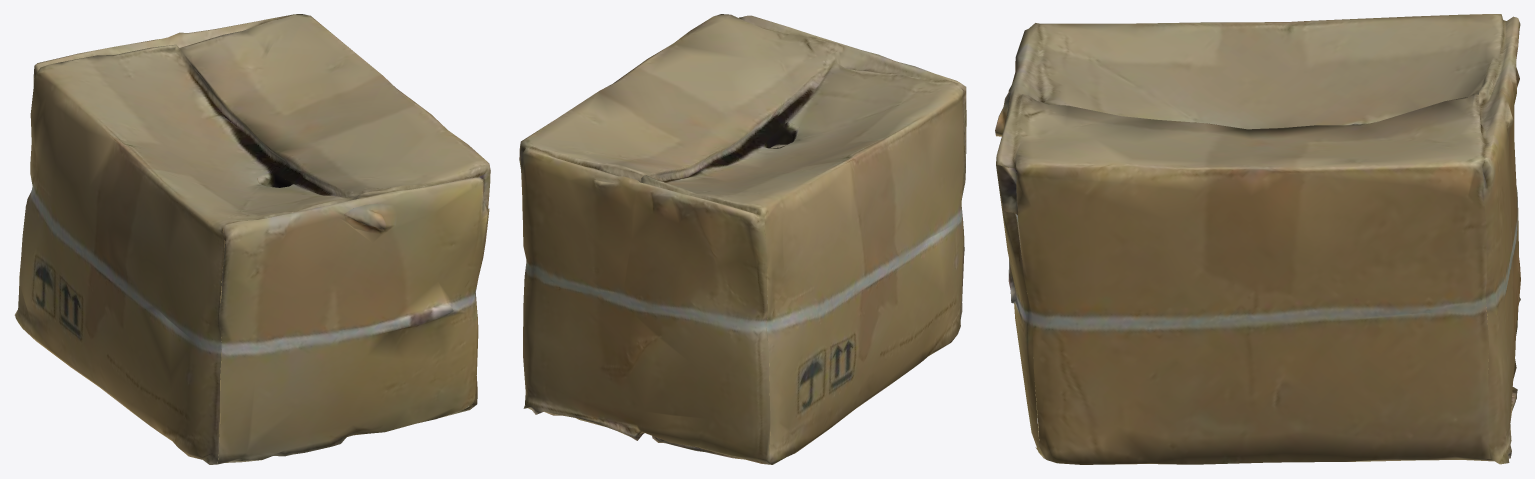
Rendered from cardboard_box_01.glb.
3 views of the same model, side by side, from view 1: azimuth 30°, elevation 25°; view 2: azimuth 150°, elevation 25°; view 3: azimuth 270°, elevation 25° (orthographic). The views are drawn at different scales.
Visible parts, largest first — view 1: cardboard_box_01; view 2: cardboard_box_01; view 3: cardboard_box_01.
Boxes of the visible parts, <box> form: cardboard_box_01: <box>14,14,490,464</box>; cardboard_box_01: <box>519,14,966,464</box>; cardboard_box_01: <box>995,14,1520,464</box>.
Bounding box in the file's own units: 0.3872 × 0.3414 × 0.5155.
Materials: 1 (1 with a texture image).
